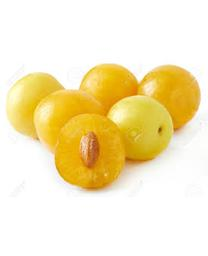cherry: (53, 112, 125, 190), (5, 73, 74, 138), (34, 88, 103, 152), (106, 95, 171, 162), (139, 64, 202, 131), (80, 64, 141, 123)
